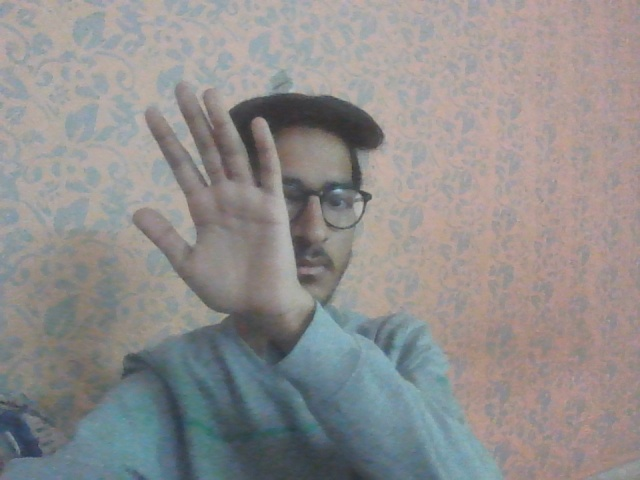Hello: (129, 74, 307, 322)
